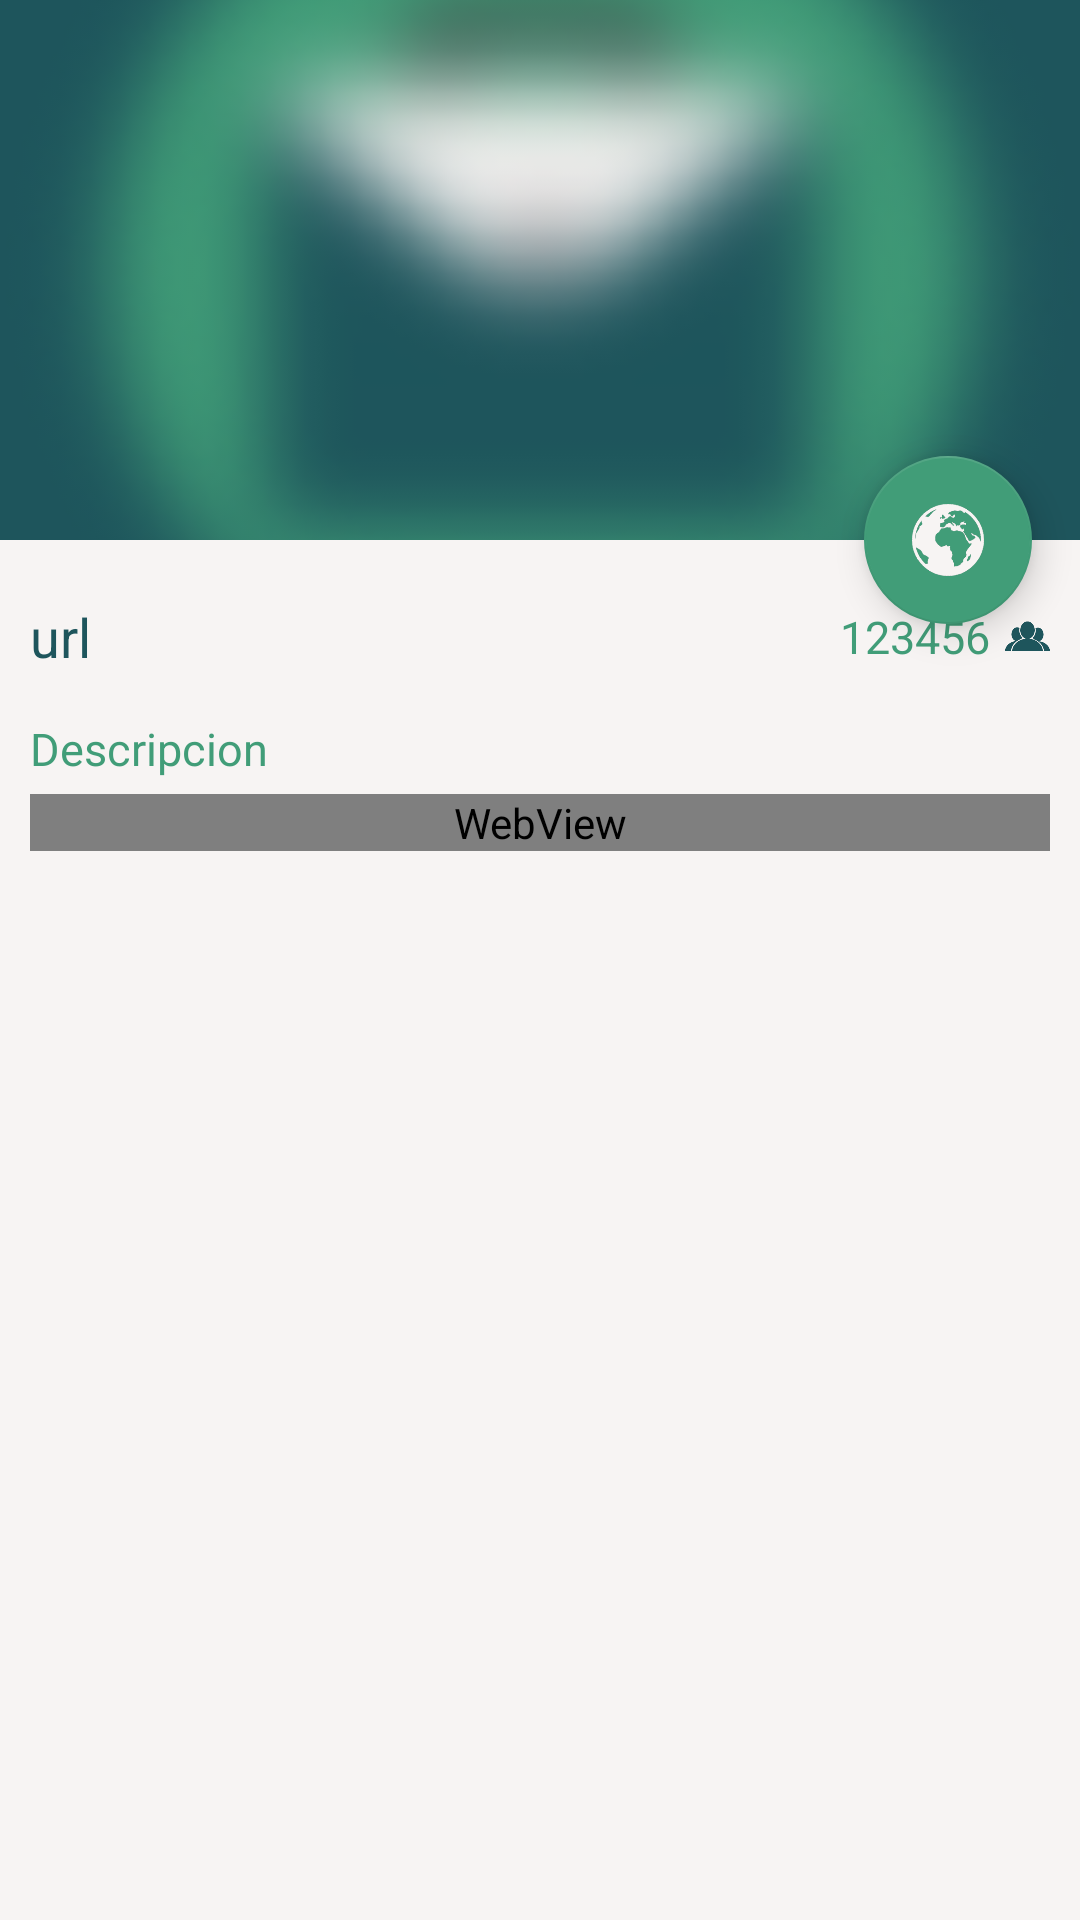

Icon click points for this 1080 x 1920 phone screenshot, format (x=x, y=y):
browser: (x=948, y=540)
people: (x=1027, y=636)
